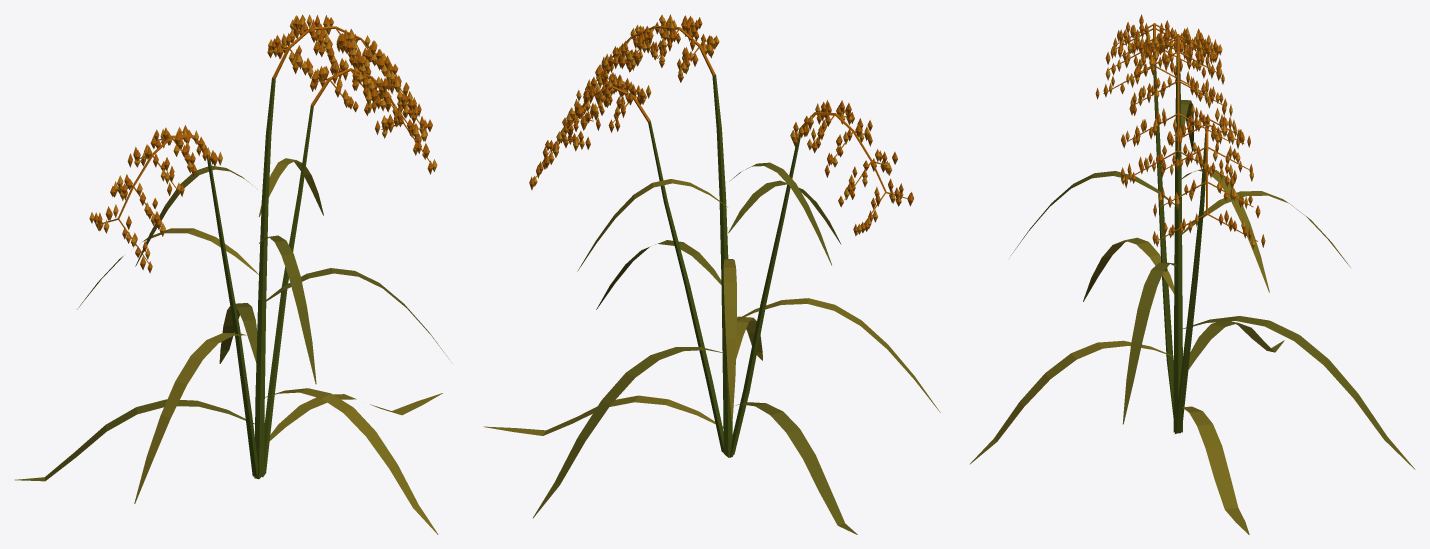
The model's file is CayLua_LOD0.fbx.
3 views of the same model, side by side, from view 1: azimuth 30°, elevation 25°; view 2: azimuth 150°, elevation 25°; view 3: azimuth 270°, elevation 25° (orthographic). The views are drawn at different scales.
Visible parts, largest first — view 1: CayLua_LOD0; view 2: CayLua_LOD0; view 3: CayLua_LOD0.
Boxes of the visible parts, bbox=[...] form: CayLua_LOD0: bbox=[15, 14, 451, 534]; CayLua_LOD0: bbox=[483, 14, 940, 534]; CayLua_LOD0: bbox=[969, 14, 1415, 534].
Bounding box in the file's own units: 1.93 × 2.01 × 1.87.
1 material, 1 textured.
